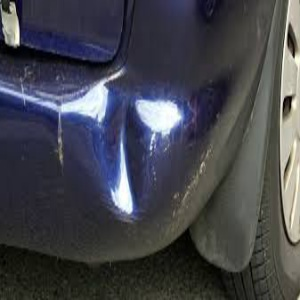bumper: (80, 89, 211, 234)
